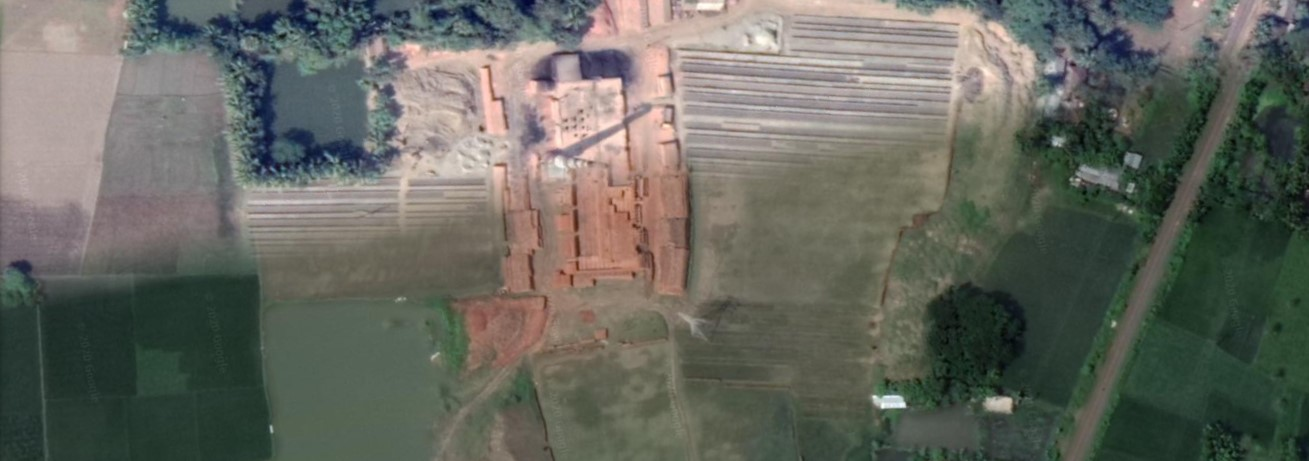kiln: (524, 93, 674, 264)
